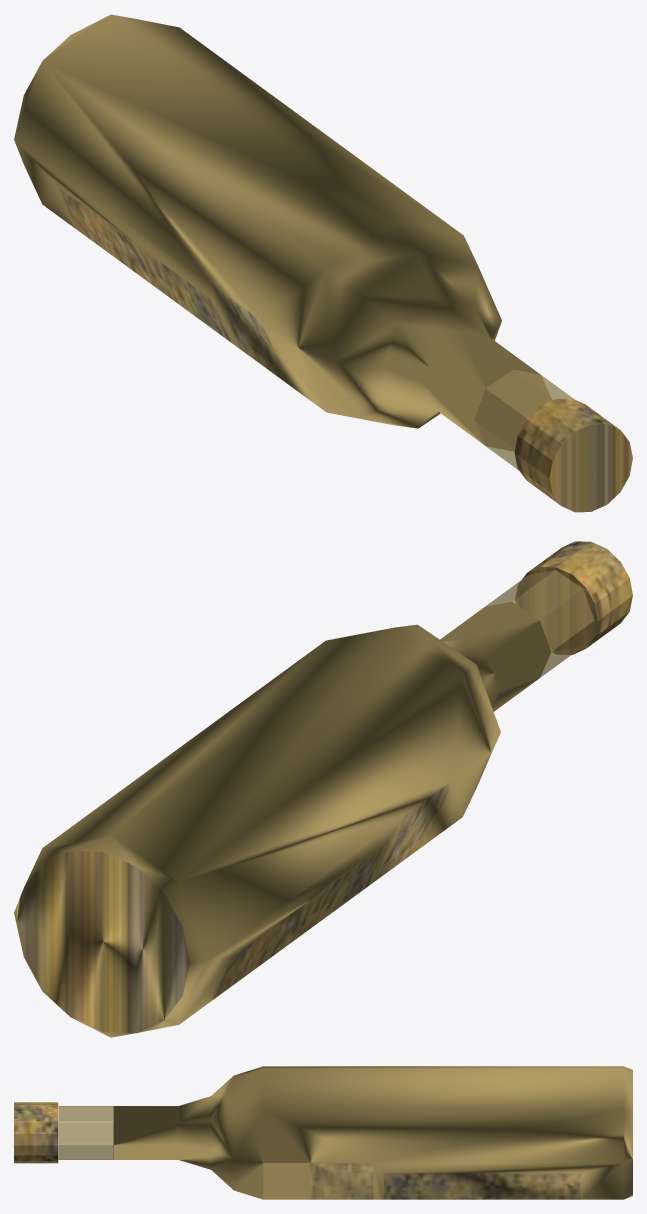
Rendered from model_align.obj.
The picture shows the model from 3 angles, top to bottom: view 1: azimuth 30°, elevation 25°; view 2: azimuth 150°, elevation 25°; view 3: azimuth 270°, elevation 25°; orthographic projection. The views are drawn at different scales.
Bounding box in the file's own units: 0.0562 × 0.0562 × 0.2453.
